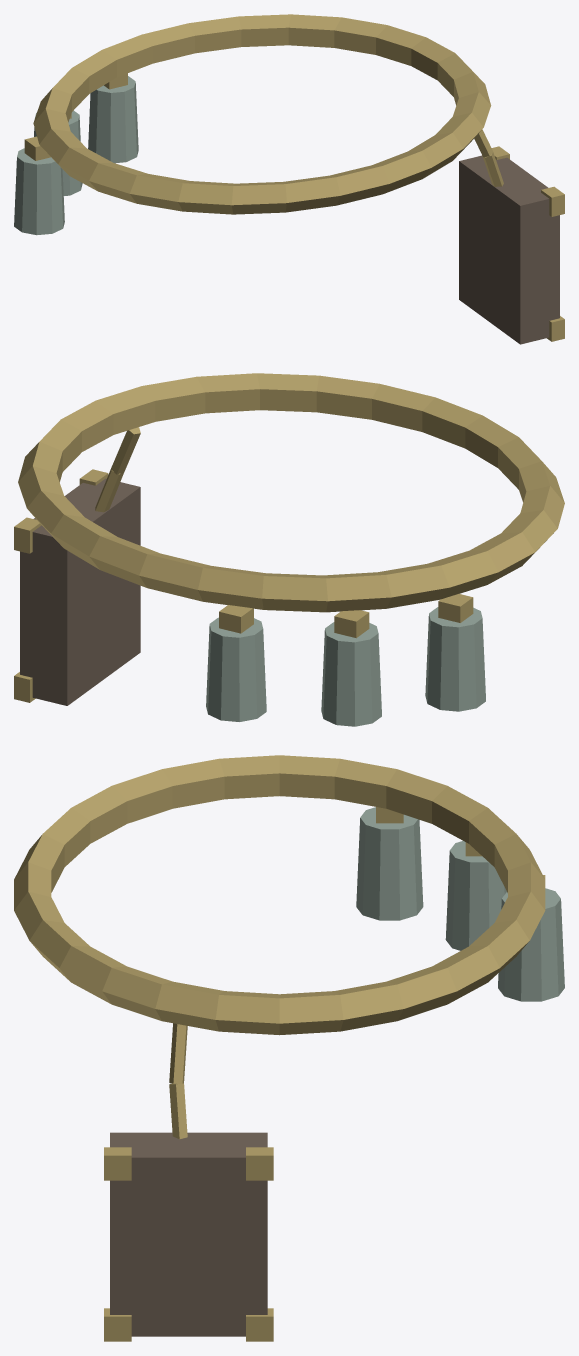
The model's file is SinBelt.fbx.
3 views of the same model, one above another, from view 1: azimuth 30°, elevation 25°; view 2: azimuth 150°, elevation 25°; view 3: azimuth 270°, elevation 25° (orthographic). The views are drawn at different scales.
Parts seen in each view (by area): view 1: SinBelt; view 2: SinBelt; view 3: SinBelt.
Boxes of the visible parts, x1,y1,x2,y2 form: SinBelt: (14,14,564,344); SinBelt: (14,373,564,726); SinBelt: (14,755,564,1341).
Size of the model in its own units: 33.1 by 17.73 by 27.9.
